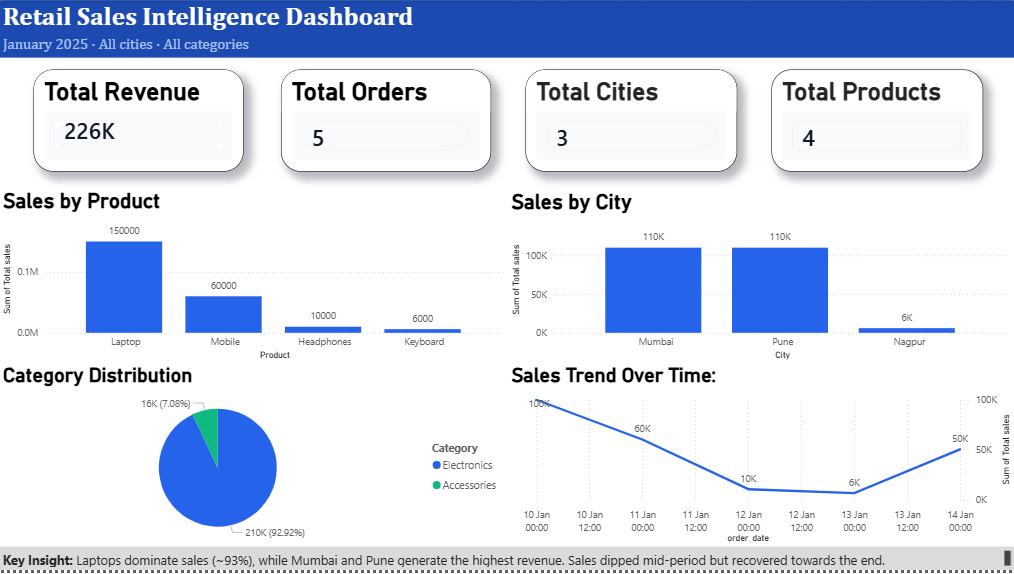

This screenshot's page, from the dashboard's own definition file:
{"tool":"powerbi","page":{"name":"Page 1","canvas":[1280,720],"ordinal":0},"visuals":[{"type":"cardVisual","title":"Total Revenue","fields":{"Data":["Sum(sales.Total sales)"]},"box":[43.5,88.8,264.6,128.5],"z":0},{"type":"cardVisual","title":"Total Orders","fields":{"Data":["CountNonNull(sales.order_id)"]},"box":[355.3,88.8,264.6,128.5],"z":1000},{"type":"clusteredColumnChart","title":"Sales by Product","fields":{"Category":["sales.Product"],"Y":["Sum(sales.Total sales)"]},"box":[0,238.1,640.6,221.1],"z":2000},{"type":"pieChart","title":"Category Distribution","fields":{"Category":["sales.Category"],"Y":["Sum(sales.Total sales)"]},"box":[0,459.2,640.6,230.6],"z":3000},{"type":"lineChart","title":"Sales Trend Over Time:","fields":{"Category":["sales.order_date"],"Y2":["Sum(sales.Total sales)"]},"box":[640.6,459.2,638.7,230.6],"z":4000},{"type":"clusteredColumnChart","title":"Sales by City","fields":{"Category":["sales.City"],"Y":["Sum(sales.Total sales)"]},"box":[640.6,240,638.7,219.2],"z":5000},{"type":"textbox","title":"          Retail Sales Intelligence Dashboard","box":[0,1.9,1279.4,71.8],"z":6000},{"type":"cardVisual","title":"Total Cities","fields":{"Data":["sales.Total Cities"]},"box":[663.3,88.8,266.5,128.5],"z":7001},{"type":"cardVisual","title":"Total Products","fields":{"Data":["sales.Total Products"]},"box":[973.2,88.8,266.5,128.5],"z":7002},{"type":"textbox","box":[0,689.8,1279.4,30.2],"z":7003}]}

Visuals, with their boxes in screenshot pixels (x1, y1, x2, y2), scaled from the page's 1280x720 canvas onto the 1014x574 screenshot:
"Total Revenue" cardVisual: x1=34 y1=71 x2=244 y2=173
"Total Orders" cardVisual: x1=281 y1=71 x2=491 y2=173
"Sales by Product" clusteredColumnChart: x1=0 y1=190 x2=507 y2=366
"Category Distribution" pieChart: x1=0 y1=366 x2=507 y2=550
"Sales Trend Over Time:" lineChart: x1=507 y1=366 x2=1013 y2=550
"Sales by City" clusteredColumnChart: x1=507 y1=191 x2=1013 y2=366
"          Retail Sales Intelligence Dashboard" textbox: x1=0 y1=2 x2=1013 y2=59
"Total Cities" cardVisual: x1=525 y1=71 x2=737 y2=173
"Total Products" cardVisual: x1=771 y1=71 x2=982 y2=173
textbox: x1=0 y1=550 x2=1013 y2=573
